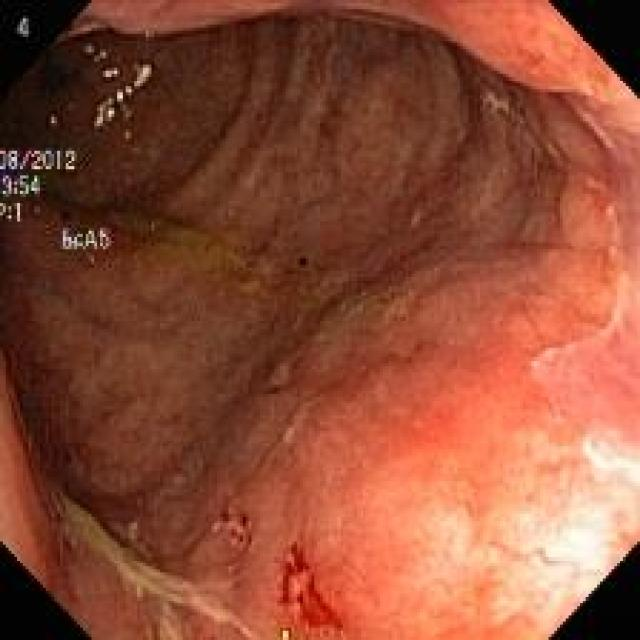ulcerative-colitis-grade-1: (5, 16, 639, 638)
